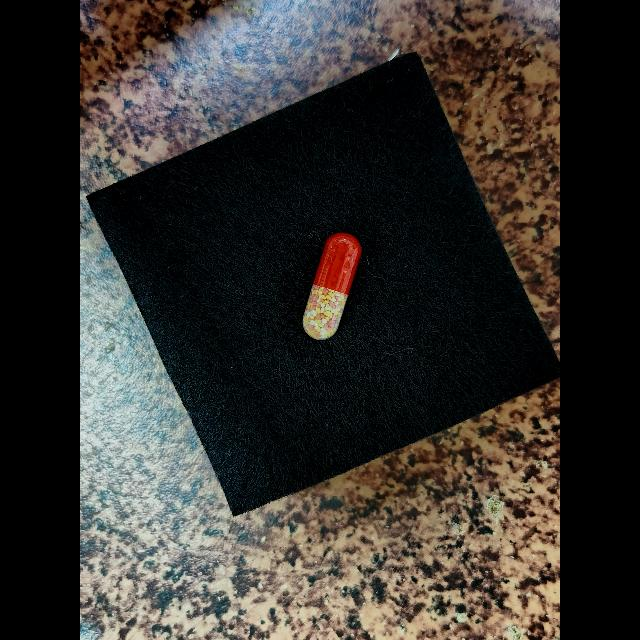Intact Capsule: (303, 233, 362, 340)
